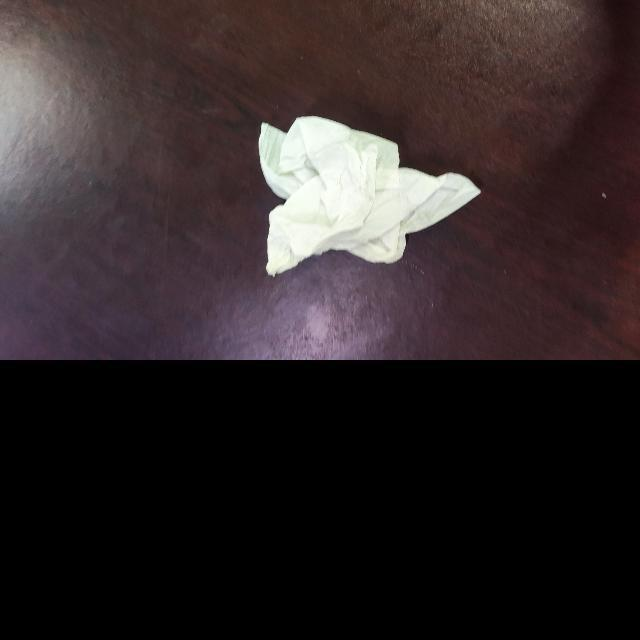kitchen paper: (256, 113, 483, 274)
